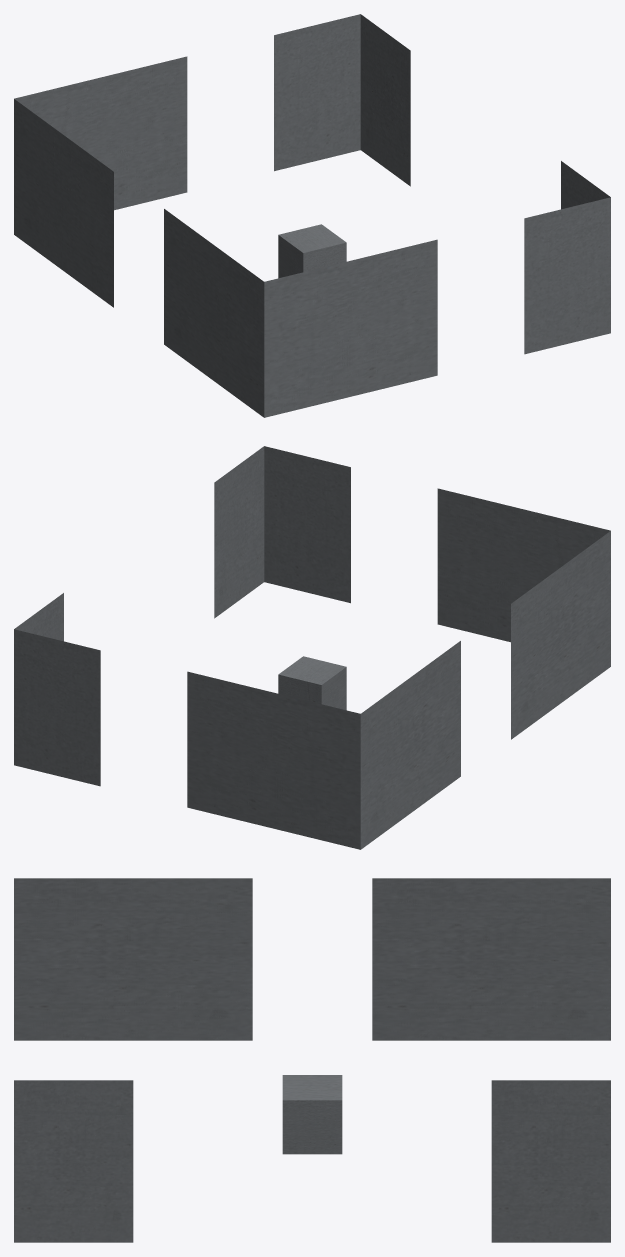
File: Stage1.obj
3 views of the same model, one above another, from view 1: azimuth 30°, elevation 25°; view 2: azimuth 150°, elevation 25°; view 3: azimuth 270°, elevation 25° (orthographic). The views are drawn at different scales.
Visible parts, largest first — view 1: Cube.001, Cube.004, Cube.002, Cube.003, Cube, Cube.005, Cube.006, 立方体, Cube.007; view 2: Cube.004, Cube.001, Cube.003, Cube.002, Cube.005, Cube, Cube.007, 立方体, Cube.006; view 3: Cube.002, Cube.003, Cube.006, Cube.007, 立方体.
Part boxes in pixels (x1,y1,x2,y2): Cube.001: (264, 239, 437, 417); Cube.004: (14, 56, 187, 210); Cube.002: (164, 209, 264, 417); Cube.003: (14, 99, 113, 307); Cube: (524, 197, 610, 354); Cube.005: (274, 14, 360, 171); Cube.006: (360, 14, 410, 186); 立方体: (278, 224, 346, 278); Cube.007: (561, 161, 610, 209); Cube.004: (187, 671, 360, 849); Cube.001: (437, 488, 610, 642); Cube.003: (360, 641, 460, 849); Cube.002: (511, 531, 610, 739); Cube.005: (14, 629, 100, 786); Cube: (264, 446, 350, 603); Cube.007: (214, 446, 264, 618); 立方体: (278, 656, 346, 710); Cube.006: (14, 593, 63, 641); Cube.002: (14, 878, 252, 1040); Cube.003: (372, 878, 610, 1040); Cube.006: (491, 1080, 610, 1242); Cube.007: (14, 1080, 133, 1242); 立方体: (282, 1075, 342, 1154).
Size of the model in its own units: 16 by 6 by 20.
8 materials, 8 textured.
